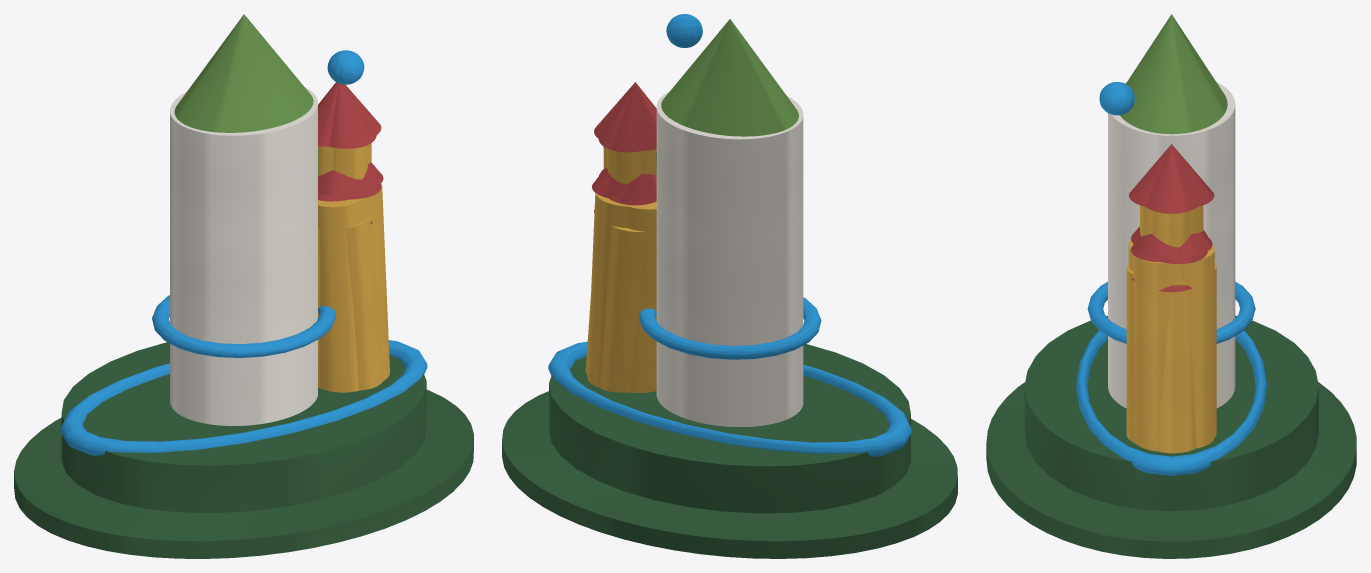
Rendered from 0531_岩石矿物图鉴_黑曜岩.glb.
3 renders of one model, left to right at view 1: azimuth 30°, elevation 25°; view 2: azimuth 150°, elevation 25°; view 3: azimuth 270°, elevation 25°, orthographic. The views are drawn at different scales.
Parts seen in each view (by area): view 1: card_0531; view 2: card_0531; view 3: card_0531.
Part boxes in pixels (x1,y1,x2,y2): card_0531: (14,14,473,558); card_0531: (502,14,957,558); card_0531: (986,14,1356,558).
Size of the model in its own units: 0.9549 by 1 by 0.7526.
